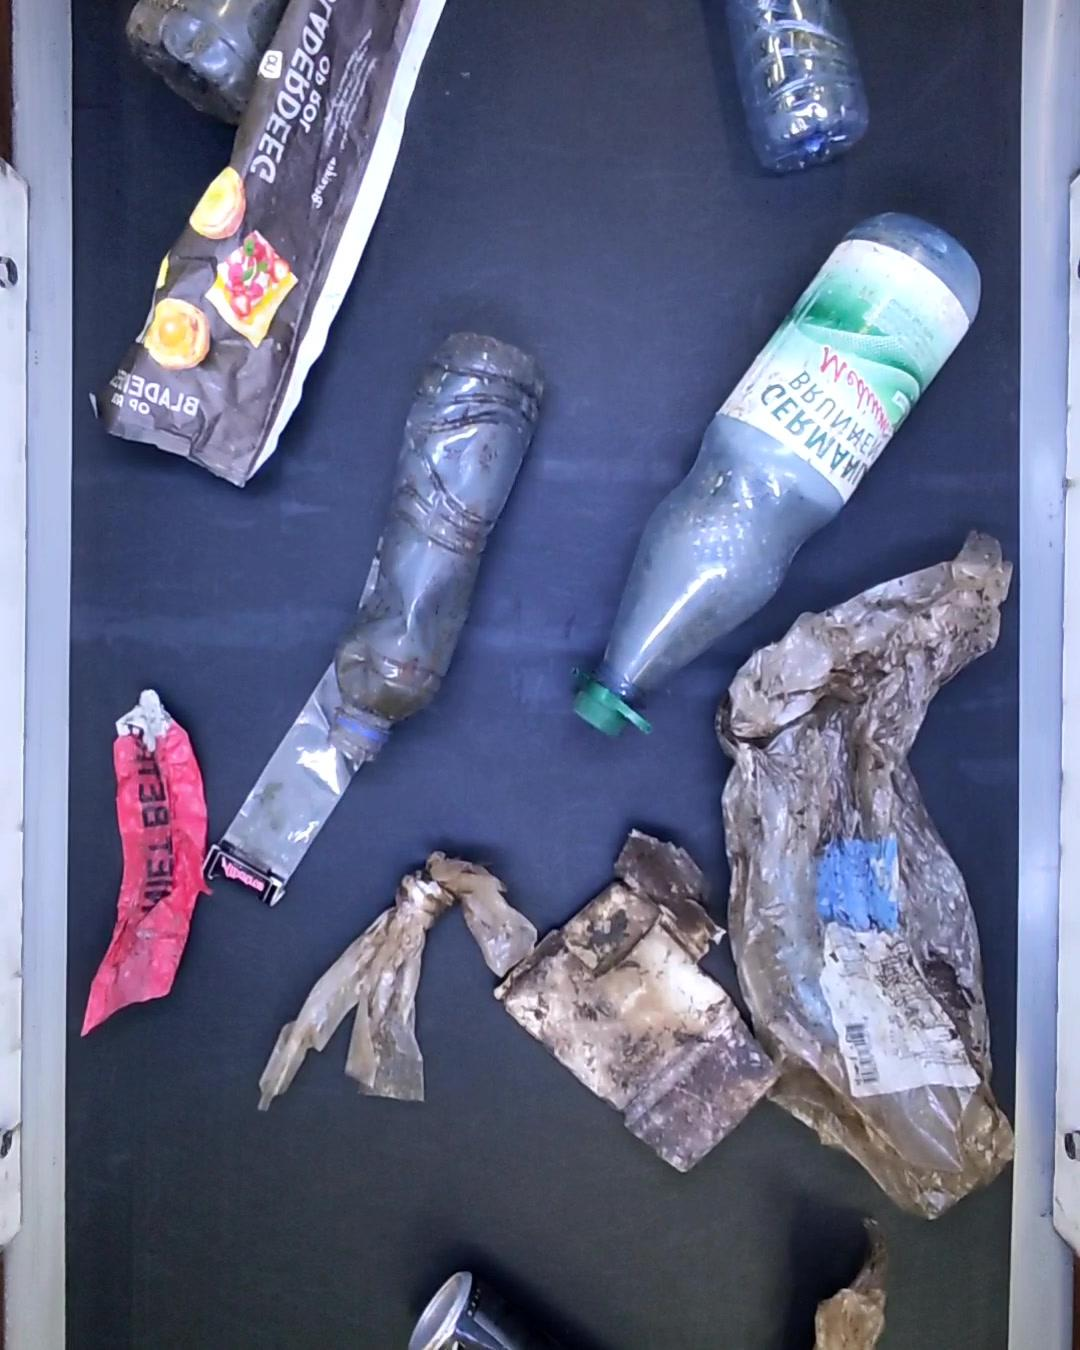Drankblikjes: (407, 1270, 528, 1350)
Drankflessen - 1-2 liter: (575, 212, 983, 745), (330, 332, 540, 767), (713, 0, 860, 165), (125, 0, 290, 126)
Plastic folies of stukken daarvan 2.5- 50 cm: (717, 528, 1018, 1225), (251, 854, 520, 1110), (802, 1227, 894, 1350)
Voedselverpakkingen: (84, 0, 452, 482)
